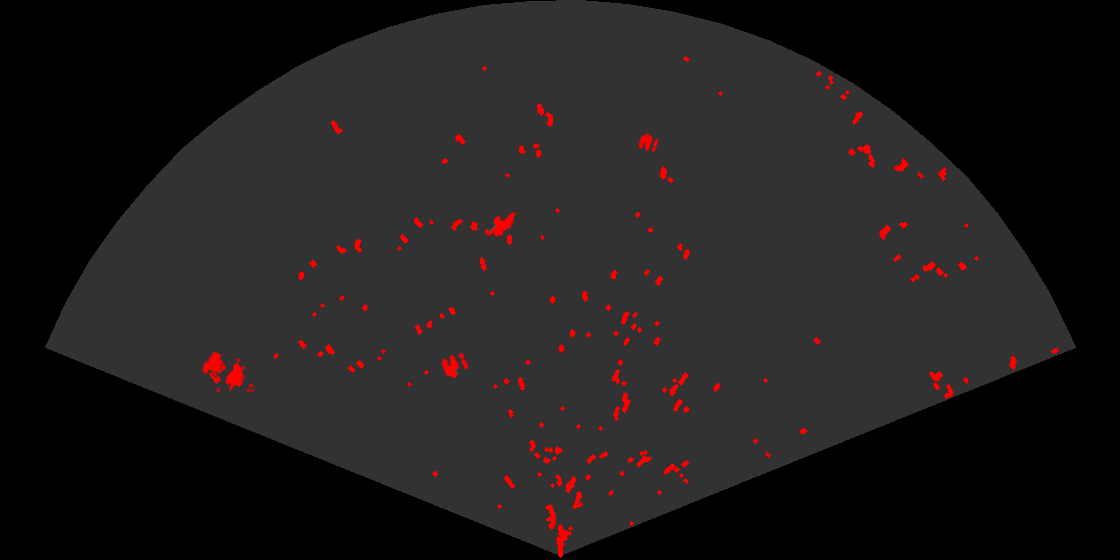AUV: (482, 211, 517, 238)
ball: (440, 351, 470, 380), (636, 131, 660, 154)
cage: (200, 350, 254, 392)
